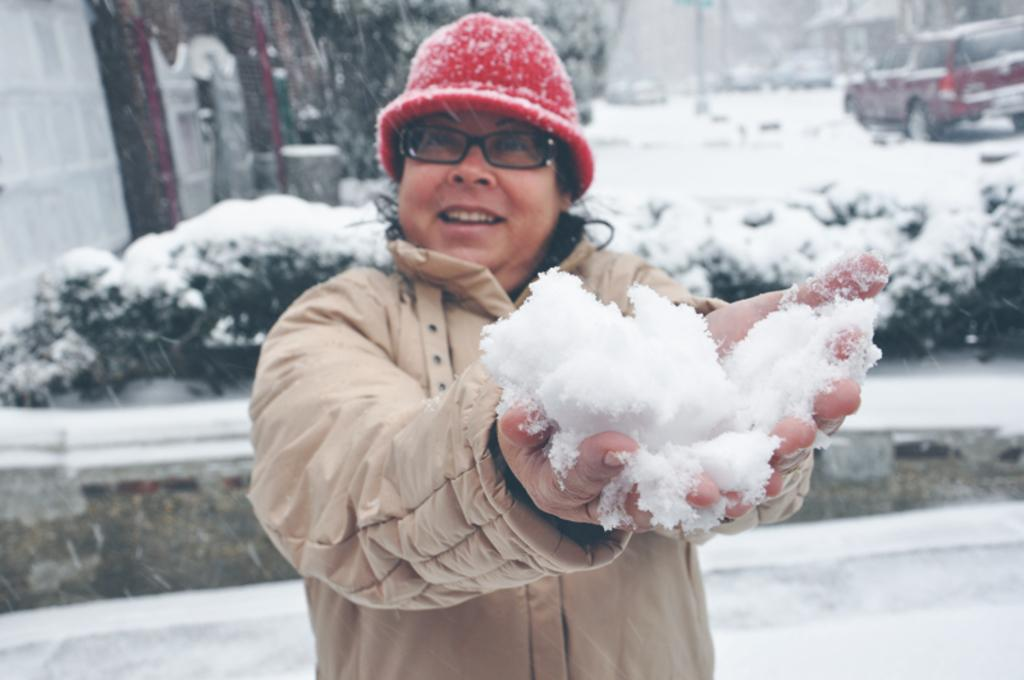Hat: (371, 16, 595, 204)
